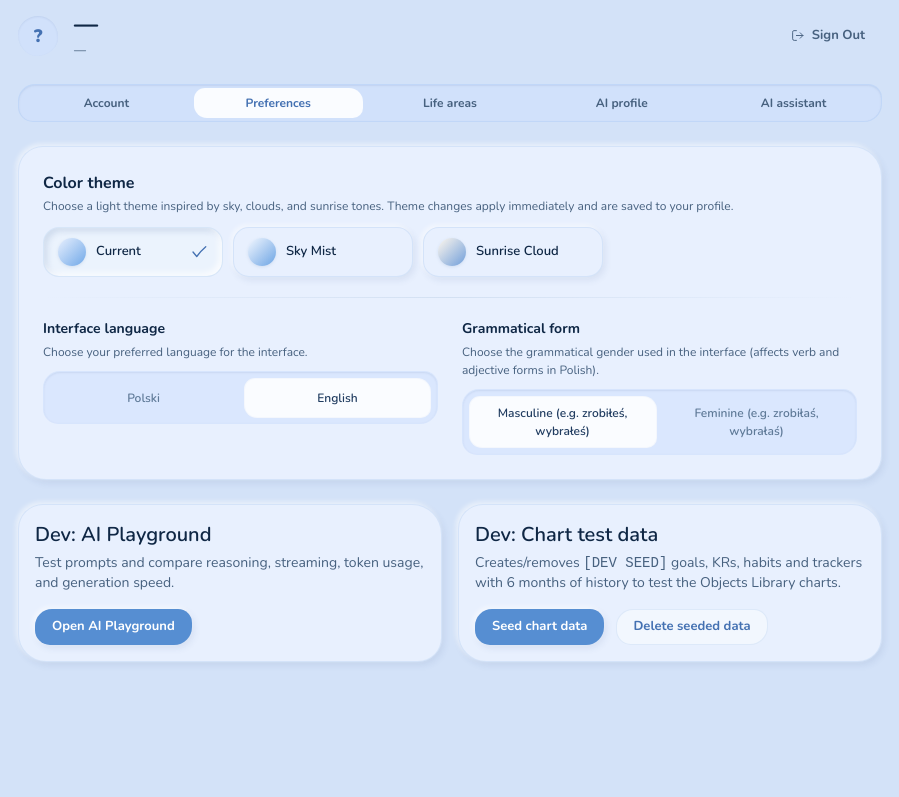
Test: ProfileView › AI assistant tab › loads an existing legacy OpenAI API key on mount
Click the tab "AI assistant". click: point(794, 103)
box: 709,88 -> 878,118
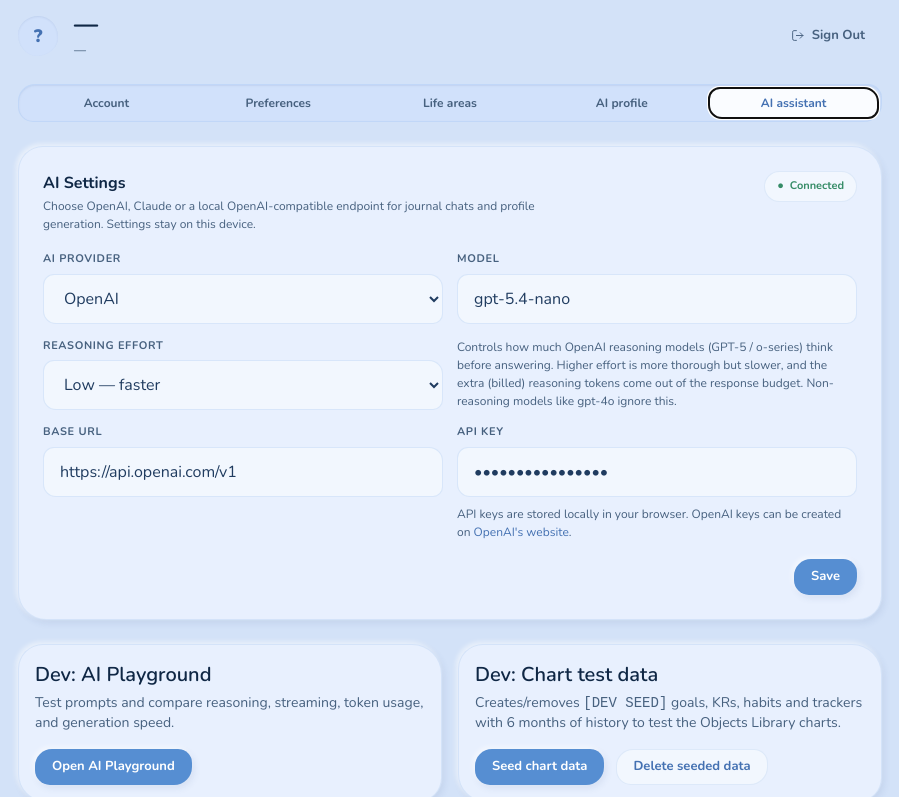
Expected: the dropdown labelled "AI provider" shows "OpenAI", 43,274 -> 443,324
Expected: the field labelled "Base URL" holds "https://api.openai.com/v1", 43,447 -> 443,497
Expected: the field labelled "Model" holds "gpt-5.4-nano", 457,274 -> 857,324
